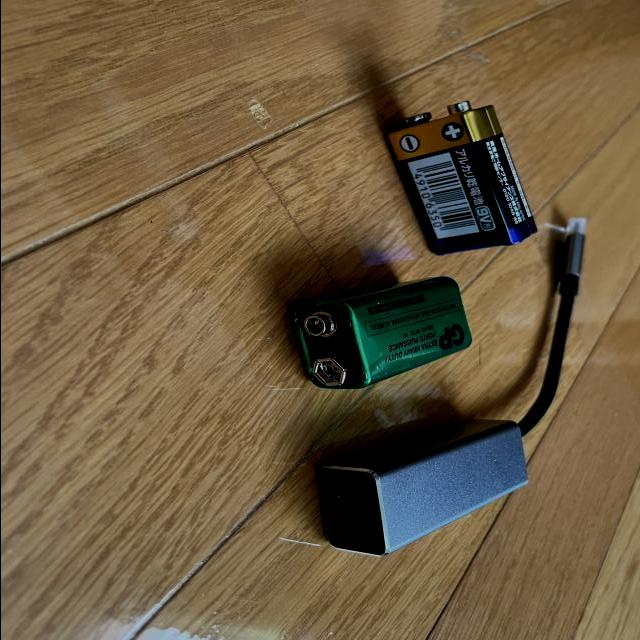9V: (384, 102, 537, 256), (291, 276, 472, 392)
